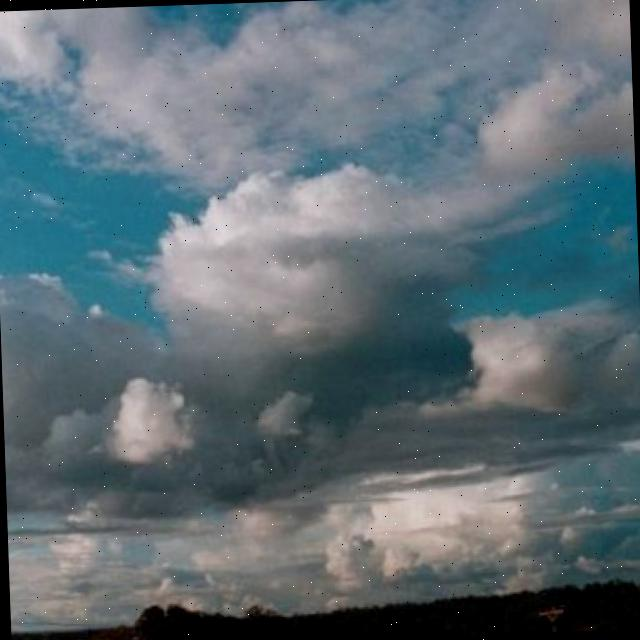Cu: (1, 1, 640, 459)
